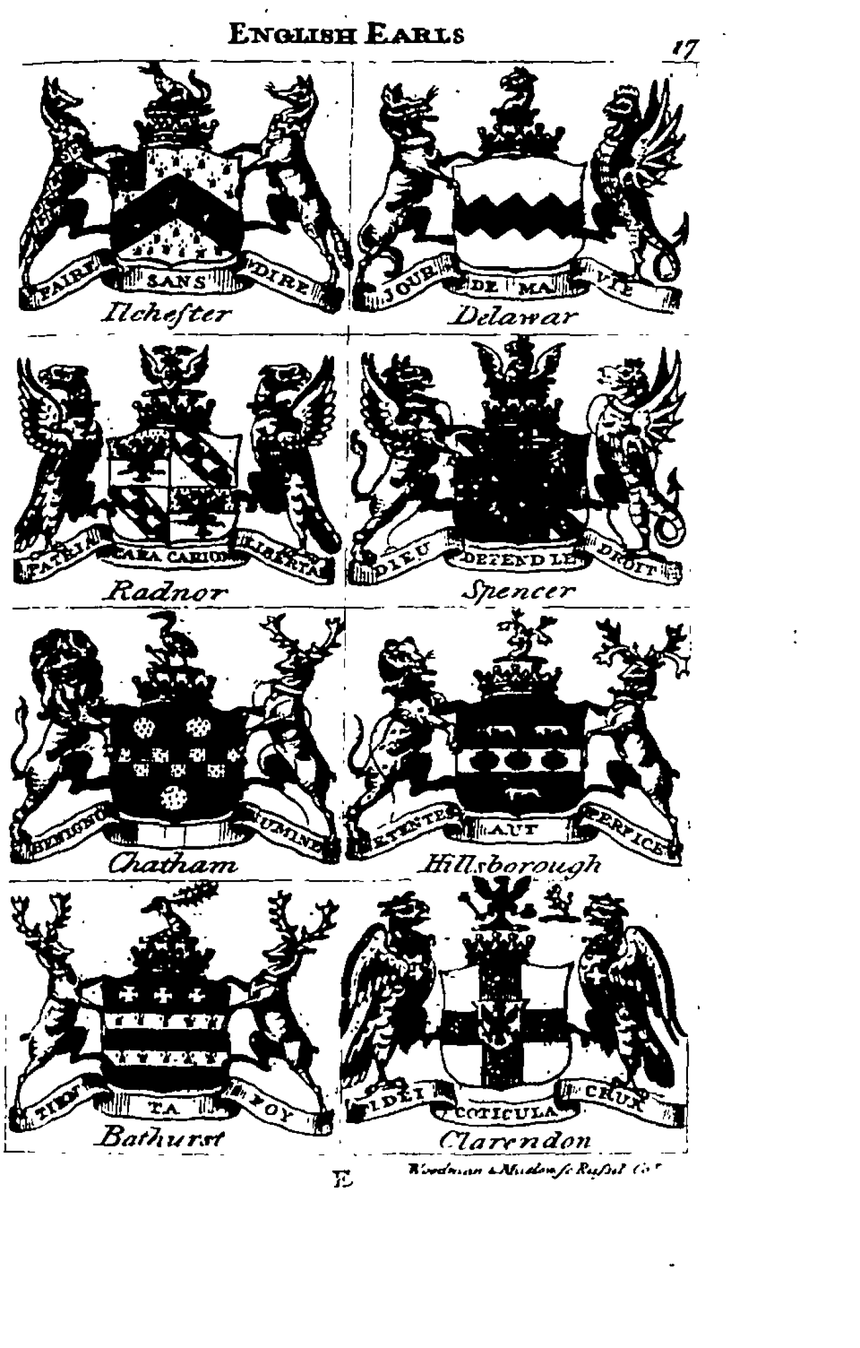coat_of_arms: (343, 606, 698, 881), (345, 333, 693, 605), (342, 882, 686, 1157), (3, 881, 336, 1158), (354, 60, 684, 331), (22, 65, 352, 333), (14, 337, 345, 603), (17, 604, 337, 879)
